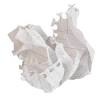crumpled paper: (6, 5, 96, 94)
